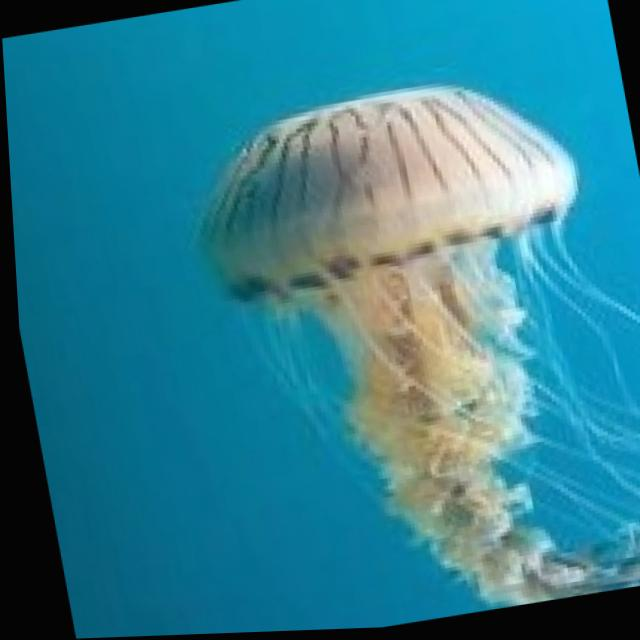Jellyfish: (166, 52, 640, 635)
